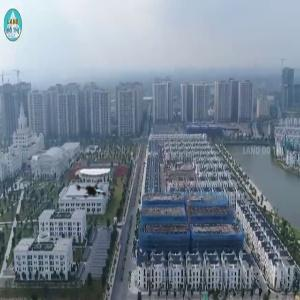drone: (45, 132, 140, 227)
